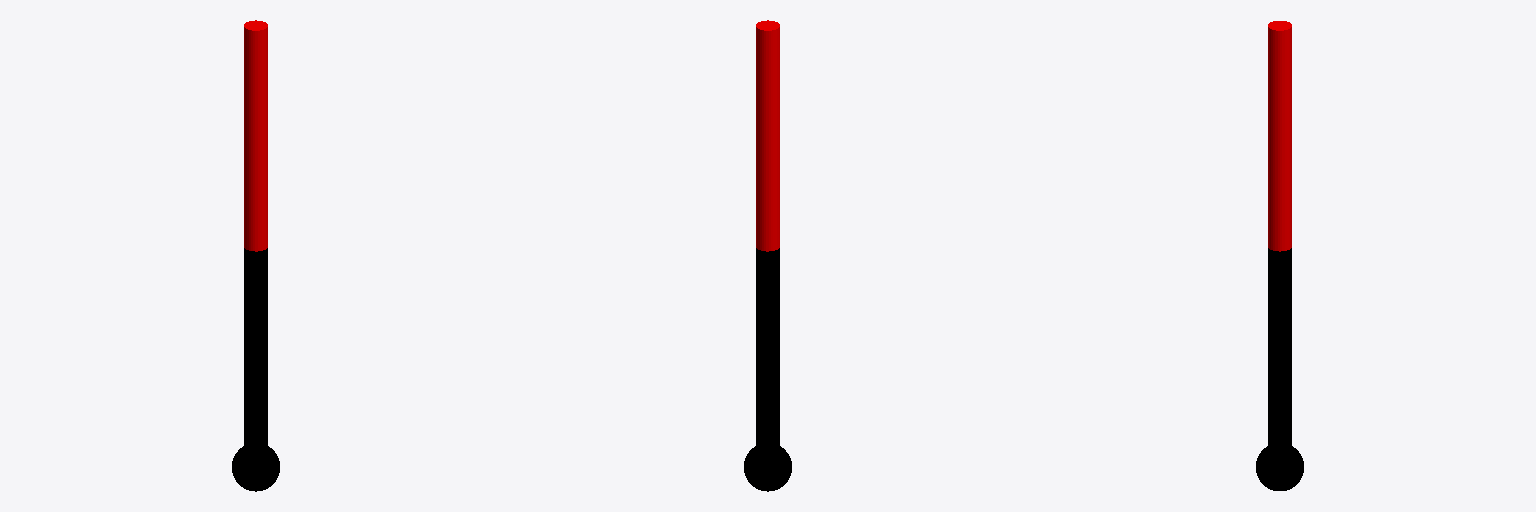
URDF robot description (five_link_walker):
<?xml version="1.0" ?>
<!-- =================================================================================== -->
<!-- |    This document was autogenerated by xacro from five_link_walker.xacro         | -->
<!-- |    EDITING THIS FILE BY HAND IS NOT RECOMMENDED                                 | -->
<!-- =================================================================================== -->
<robot name="five_link_walker" xmlns:xacro="http://ros.org/wiki/xacro">
  <link name="base">
    <inertial>
      <origin xyz="0 0 0.25"/>
      <mass value="15"/>
      <inertia ixx="0" ixy="0" ixz="0" iyy="0" iyz="0" izz="0"/>
    </inertial>
    <visual>
      <geometry>
        <sphere radius="0.05"/>
      </geometry>
      <material name="black">
        <color rgba="0 0 0 1"/>
      </material>
    </visual>
    <visual>
      <origin xyz="0 0 0.25"/>
      <geometry>
        <cylinder length="0.5" radius="0.025"/>
      </geometry>
      <material name="black">
        <color rgba="0 0 0 1"/>
      </material>
    </visual>
  </link>
  <link name="right_thigh">
    <inertial>
      <origin xyz="0 0 0.25"/>
      <mass value="5"/>
      <inertia ixx="0" ixy="0" ixz="0" iyy="0" iyz="0" izz="0"/>
    </inertial>
    <visual>
      <origin xyz="0 0 0.25"/>
      <geometry>
        <cylinder length="0.5" radius="0.025"/>
      </geometry>
      <material name="blue">
        <color rgba="0 0 1 1"/>
      </material>
    </visual>
  </link>
  <link name="left_thigh">
    <inertial>
      <origin xyz="0 0 0.25"/>
      <mass value="5"/>
      <inertia ixx="0" ixy="0" ixz="0" iyy="0" iyz="0" izz="0"/>
    </inertial>
    <visual>
      <origin xyz="0 0 0.25"/>
      <geometry>
        <cylinder length="0.5" radius="0.025"/>
      </geometry>
      <material name="red">
        <color rgba="1 0 0 1"/>
      </material>
    </visual>
  </link>
  <link name="right_shin">
    <inertial>
      <origin xyz="0 0 0.25"/>
      <mass value="5"/>
      <inertia ixx="0" ixy="0" ixz="0" iyy="0" iyz="0" izz="0"/>
    </inertial>
    <visual>
      <origin xyz="0 0 0.25"/>
      <geometry>
        <cylinder length="0.5" radius="0.025"/>
      </geometry>
      <material name="blue">
        <color rgba="1 0 0 1"/>
      </material>
    </visual>
  </link>
  <link name="left_shin">
    <inertial>
      <origin xyz="0 0 0.25"/>
      <mass value="5"/>
      <inertia ixx="0" ixy="0" ixz="0" iyy="0" iyz="0" izz="0"/>
    </inertial>
    <visual>
      <origin xyz="0 0 0.25"/>
      <geometry>
        <cylinder length="0.5" radius="0.025"/>
      </geometry>
      <material name="red">
        <color rgba="0 0 1 1"/>
      </material>
    </visual>
  </link>
  <joint name="q1_left" type="continuous">
    <origin xyz="0 0 0" rpy="0 0 0"/>
    <axis xyz="1 0 0"/>
    <parent link="base"/>
    <child link="left_thigh"/>
  </joint>
  <joint name="q1_right" type="continuous">
    <origin xyz="0 0 0"/>
    <axis xyz="1 0 0"/>
    <parent link="base"/>
    <child link="right_thigh"/>
  </joint>
  <joint name="q2_left" type="continuous">
    <origin xyz="0 0 0.5"/>
    <axis xyz="1 0 0"/>
    <parent link="left_thigh"/>
    <child link="left_shin"/>
  </joint>
  <joint name="q2_right" type="continuous">
    <origin xyz="0 0 0.5"/>
    <axis xyz="1 0 0"/>
    <parent link="right_thigh"/>
    <child link="right_shin"/>
  </joint>
</robot>

--- What the picture shows (computed from the rendered views, not written in the file) ---
Views: 3 orthographic renders of the robot side by side, from view 1: azimuth 30°, elevation 25°; view 2: azimuth 150°, elevation 25°; view 3: azimuth 270°, elevation 25°.
Model five_link_walker with 5 links and 4 joints (4 continuous), rooted at base, posed all joints at 0.
Links seen in each view (by area): view 1: base, right_shin; view 2: base, right_shin; view 3: base, right_shin.
Link boxes in pixels (x1,y1,x2,y2): base: (232,248,279,491); right_shin: (244,20,267,251); base: (744,248,791,491); right_shin: (756,20,779,251); base: (1256,248,1303,490); right_shin: (1268,21,1291,251).
Size in the robot's own frame: 0.1 by 0.1 by 1.05 metres.
Geometry: primitives only (box / cylinder / sphere), no mesh files.
